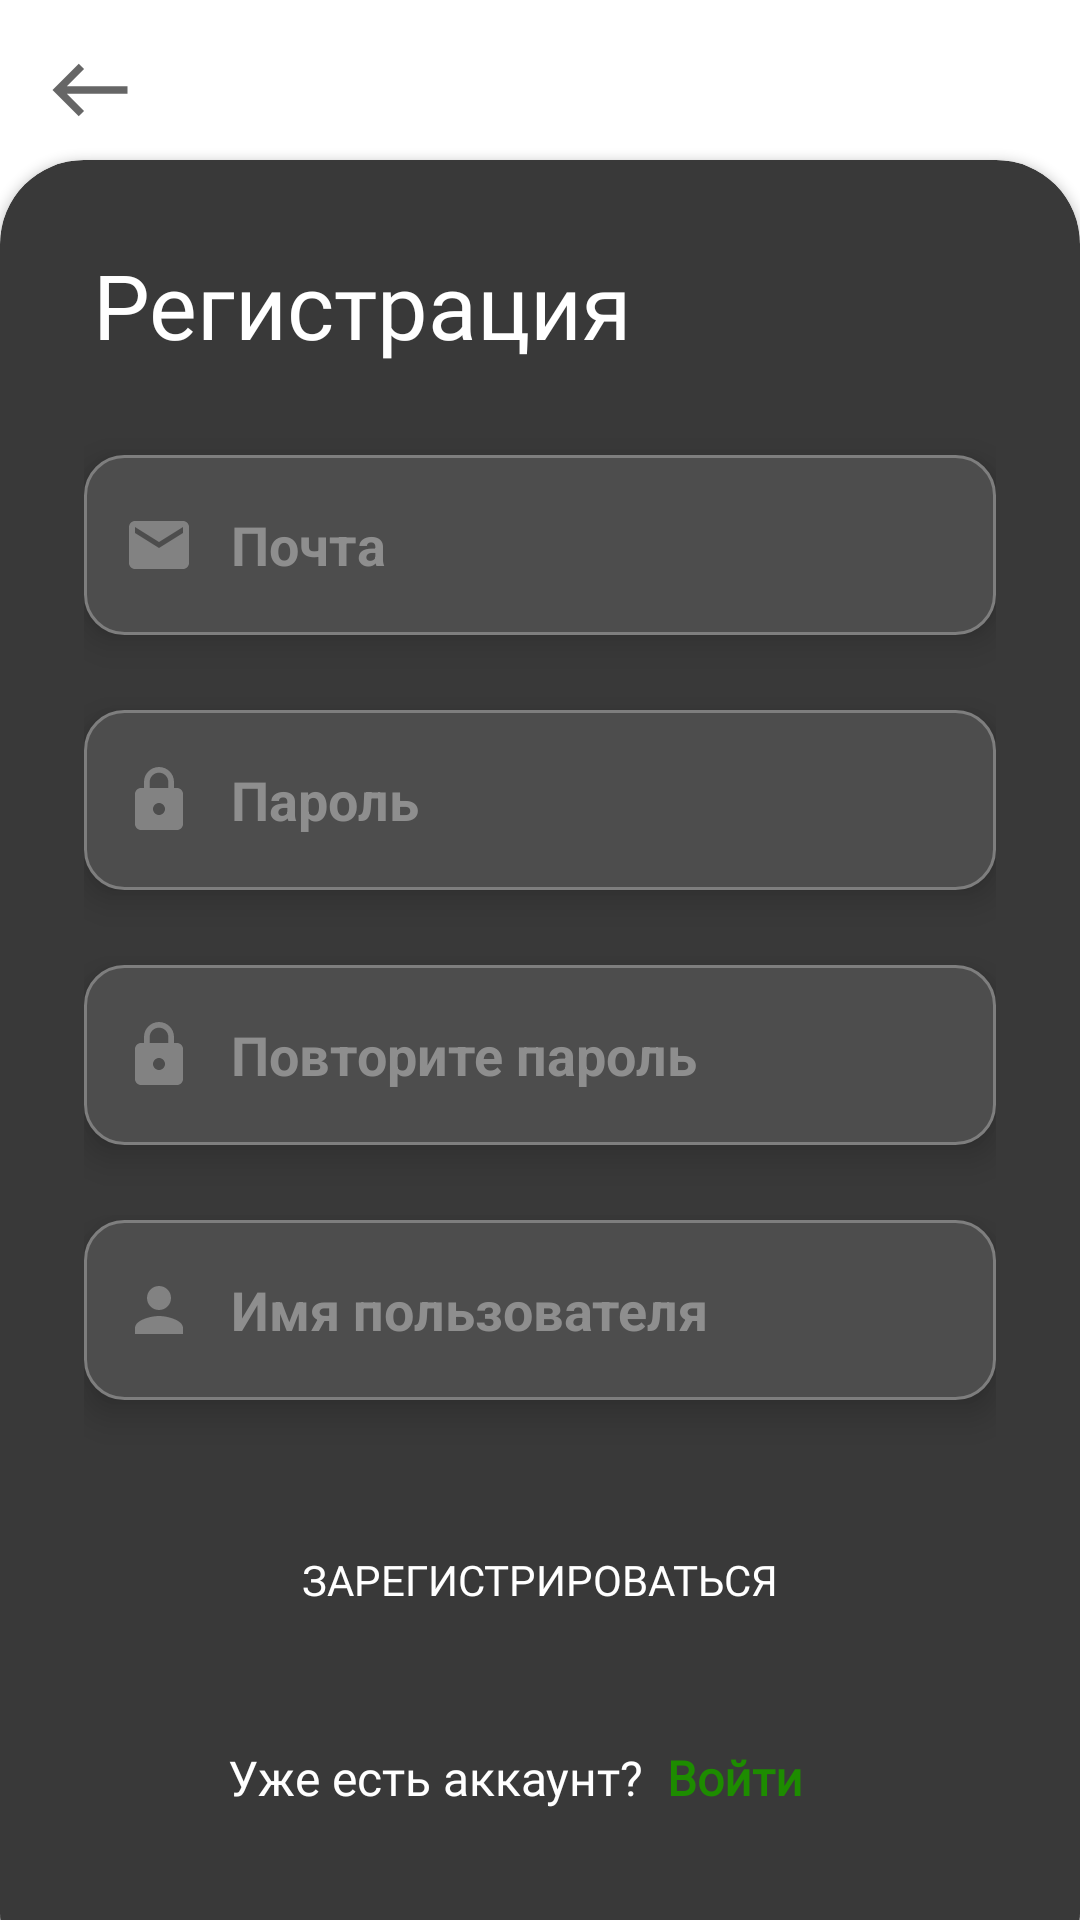

Screen size 1080 x 1920. Icon name, then its box in pixels as [x1,y1,x2,y2]:
back: [53,64,128,116]
